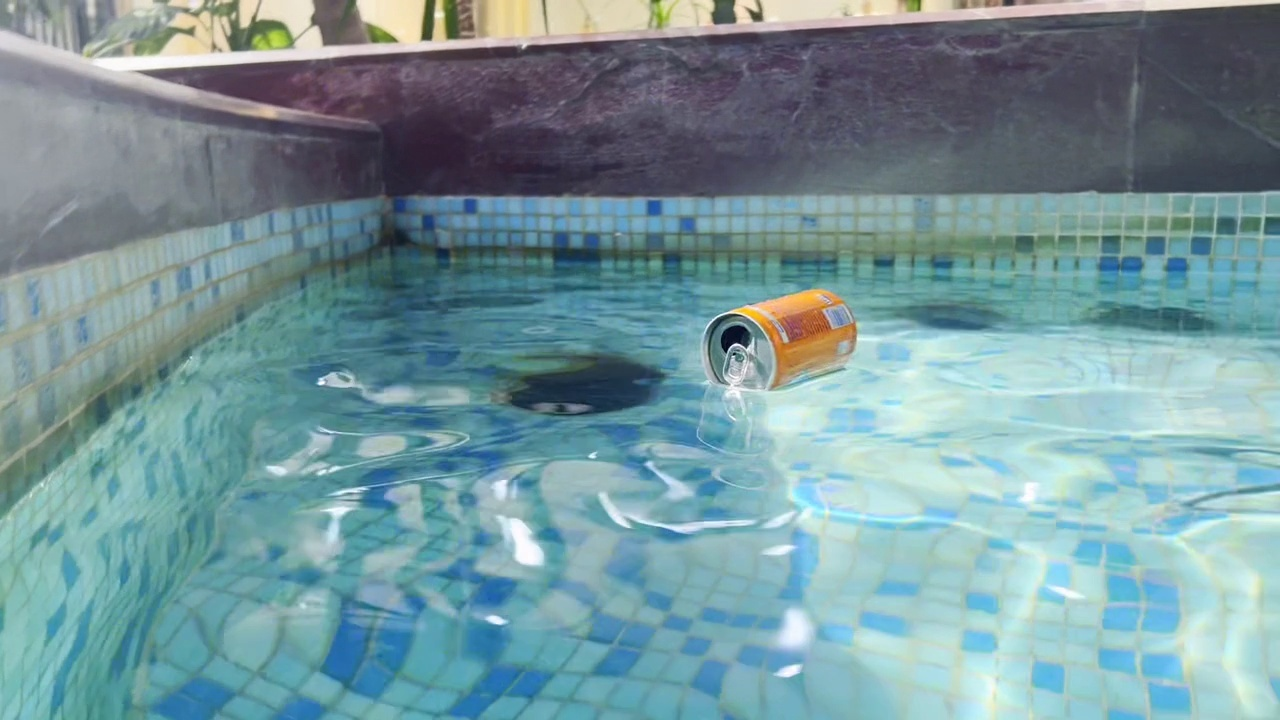debris: (687, 280, 866, 397)
